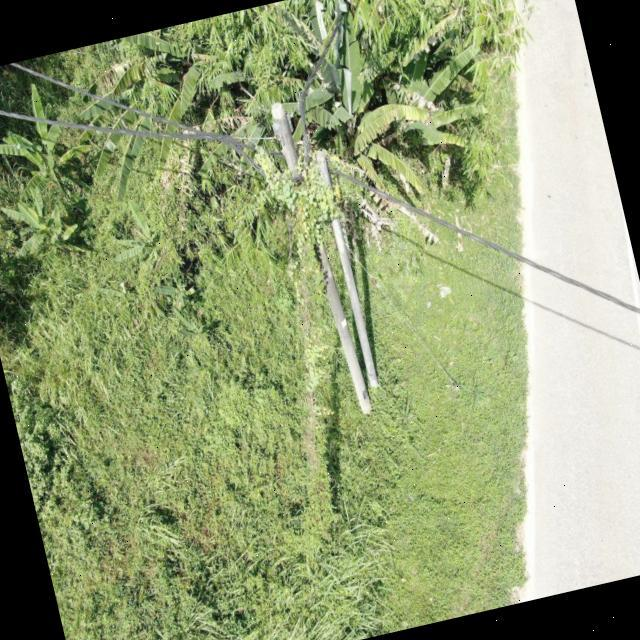critical vegetation: (192, 118, 430, 568)
